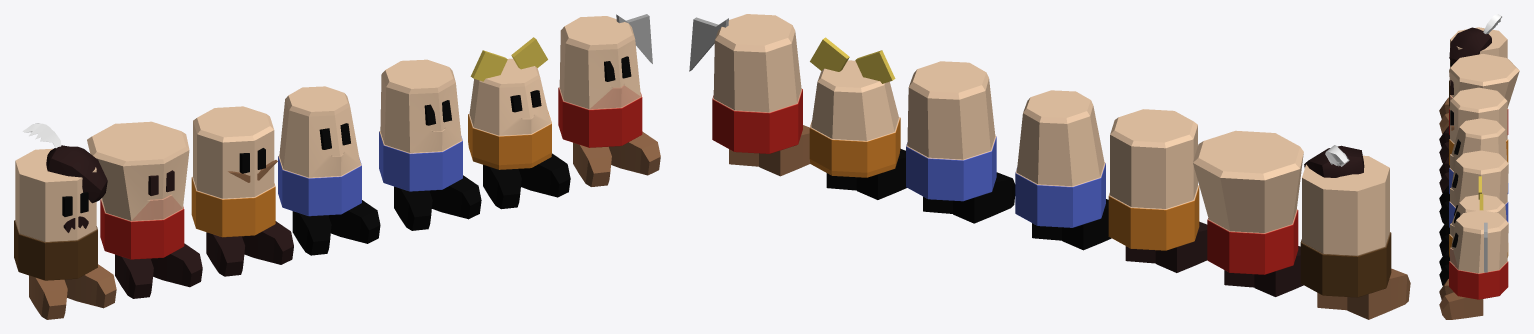
The model's file is NPC-2.fbx.
The picture shows the model from 3 angles, left to right: view 1: azimuth 30°, elevation 25°; view 2: azimuth 150°, elevation 25°; view 3: azimuth 270°, elevation 25°; orthographic projection. The views are drawn at different scales.
Visible parts, largest first — view 1: pCylinder2, pCylinder7, pCylinder3, pCylinder5, pCylinder4, pCylinder1, pCylinder6, pCube3, pCube35, pCube39, pCube18, pCube2 (+14 smaller); view 2: pCylinder2, pCylinder3, pCylinder5, pCylinder7, pCylinder1, pCylinder4, pCylinder6, pCube9, pCube29, pCube19, pCube42, pCube33 (+6 smaller); view 3: pCylinder7, pCylinder5, pCylinder2, pCylinder3, pCylinder4, pCube3, pCube39, pCylinder6, pCylinder1, pCube10, pCube24, polySurface2 (+14 smaller).
Part boxes in pixels (x1,y1,x2,y2): pCylinder2: [87, 121, 189, 259]; pCylinder7: [558, 16, 642, 147]; pCylinder3: [191, 106, 275, 237]; pCylinder5: [379, 59, 462, 191]; pCylinder4: [278, 86, 361, 216]; pCylinder1: [14, 148, 97, 280]; pCylinder6: [468, 58, 551, 169]; pCube3: [46, 145, 107, 203]; pCube35: [518, 153, 570, 197]; pCube39: [609, 131, 660, 175]; pCube18: [242, 221, 293, 264]; pCube2: [64, 264, 116, 308]; pCylinder2: [1193, 130, 1303, 274]; pCylinder3: [1108, 109, 1199, 250]; pCylinder5: [906, 61, 996, 201]; pCylinder7: [712, 14, 802, 153]; pCylinder1: [1300, 155, 1391, 297]; pCylinder4: [1015, 90, 1105, 227]; pCylinder6: [809, 60, 900, 177]; pCube9: [1347, 268, 1410, 319]; pCube29: [953, 172, 1015, 223]; pCube19: [1155, 221, 1207, 272]; pCube42: [759, 125, 810, 176]; pCube33: [856, 148, 906, 199]; pCylinder7: [1449, 210, 1508, 299]; pCylinder5: [1449, 150, 1508, 227]; pCylinder2: [1449, 54, 1519, 134]; pCylinder3: [1449, 87, 1508, 165]; pCylinder4: [1449, 118, 1508, 193]; pCube3: [1449, 27, 1491, 64]; pCube39: [1439, 292, 1483, 319]; pCylinder6: [1449, 194, 1508, 257]; pCylinder1: [1449, 27, 1507, 106]; pCube10: [1483, 14, 1501, 34]; pCube24: [1439, 200, 1449, 224]; polySurface2: [1484, 232, 1487, 272].
Bounding box in the file's own units: 2023 × 492 × 324.
10 materials, 4 textured.
